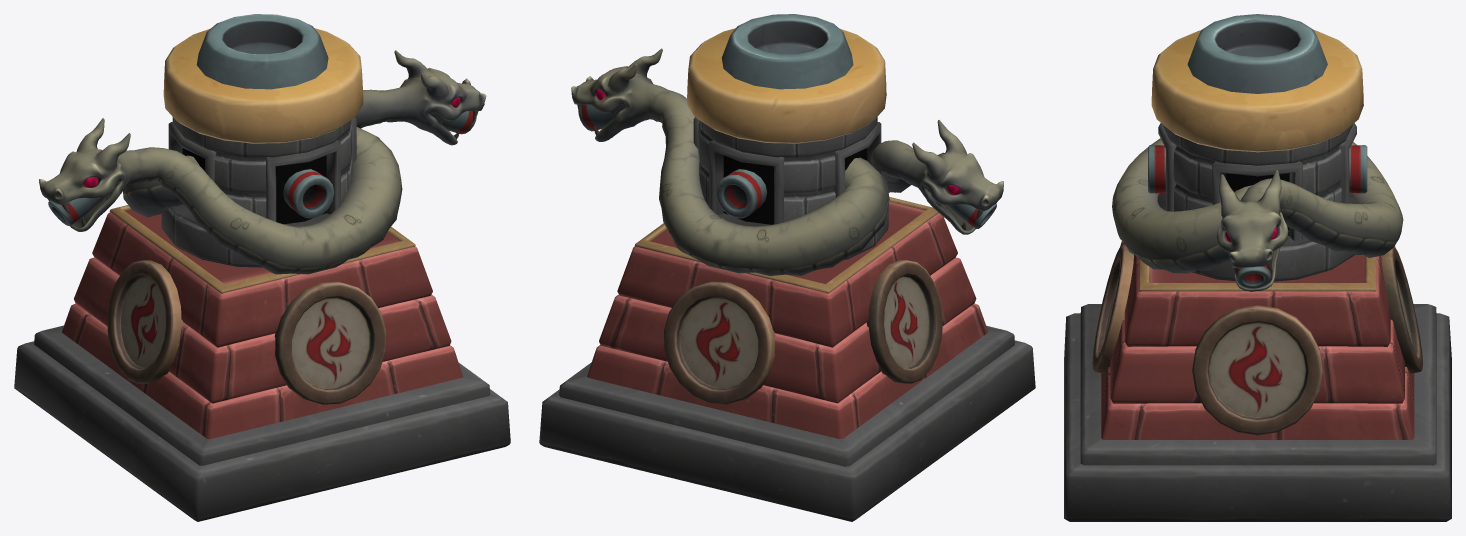
The model's file is SM_TowerDefense_Fire_Lv4.fbx.
3 renders of one model, left to right at view 1: azimuth 30°, elevation 25°; view 2: azimuth 150°, elevation 25°; view 3: azimuth 270°, elevation 25°, orthographic. The views are drawn at different scales.
Visible parts, largest first — view 1: SM_TowerDefense_Fire_Lv4; view 2: SM_TowerDefense_Fire_Lv4; view 3: SM_TowerDefense_Fire_Lv4.
Part boxes in pixels (x1,y1,x2,y2): SM_TowerDefense_Fire_Lv4: (14, 14, 510, 521); SM_TowerDefense_Fire_Lv4: (539, 14, 1035, 521); SM_TowerDefense_Fire_Lv4: (1064, 14, 1451, 521).
Bounding box in the file's own units: 1329 × 1140 × 991.
